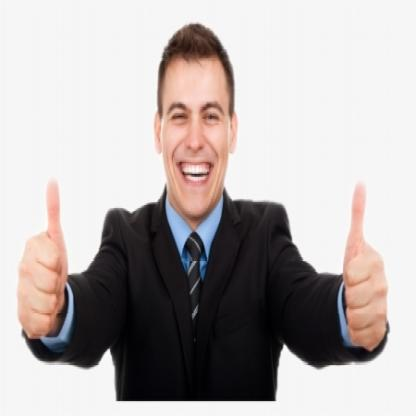Thumbs-Up: (16, 175, 70, 339), (338, 178, 389, 351)
